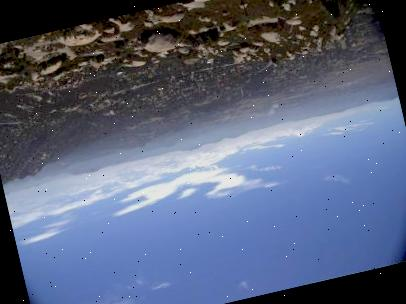smoke: (258, 103, 282, 119)
